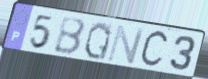3: (168, 35, 198, 73)
5: (28, 13, 57, 50)
B: (52, 17, 87, 57)
C: (138, 29, 171, 70)
N: (105, 24, 147, 65)
Q: (82, 21, 114, 63)
